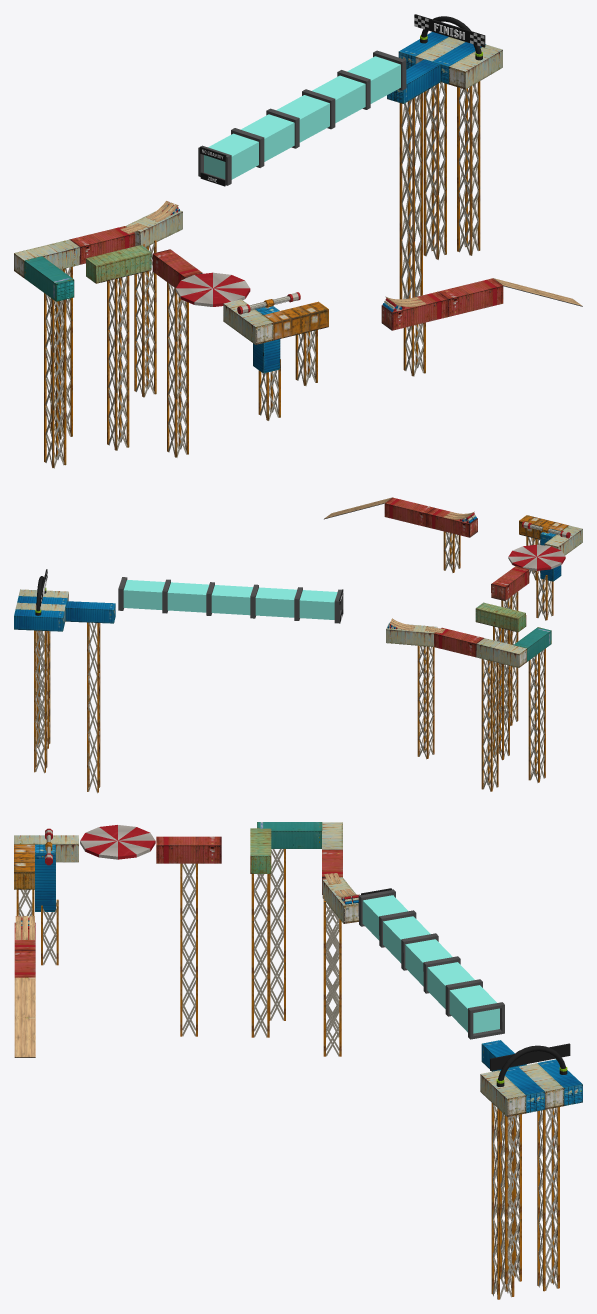
The model's file is 18_Parkour.fbx.
The picture shows the model from 3 angles, top to bottom: view 1: azimuth 30°, elevation 25°; view 2: azimuth 150°, elevation 25°; view 3: azimuth 270°, elevation 25°; orthographic projection. The views are drawn at different scales.
Visible parts, largest first — view 1: NoGravityZone, TurningPlatformFast, stcontainergreentwo, stcontainerred__8_, stcontainerorange, orangescaffold__7_, stcontainerred__5_, stcontainergreen, stcontainerwhite__4_, stcontainerwhite__1_, orangescaffold__5_, orangescaffold__8_ (+32 smaller); view 2: NoGravityZone, TurningPlatformFast, stcontainergreentwo, stcontainerblue__1_, stcontainerwhite__2_, stcontainerblue__3_, stcontainerred__8_, stcontainerred__7_, stcontainerred__5_, stcontainerred__6_, stcontainerwhite__3_, orangescaffold__13_ (+25 smaller); view 3: NoGravityZone, TurningPlatformFast, stcontainerred__6_, stcontainergreen, finishObject, stcontainerwhite__4_, orangescaffold__5_, orangescaffold__4_, stcontainerblue, orangescaffold__1_, orangescaffold, orangescaffold__6_ (+27 smaller).
Boxes of the visible parts, x1=… form: NoGravityZone: x1=204, y1=56, x2=400, y2=179; TurningPlatformFast: x1=175, y1=272, x2=250, y2=306; stcontainergreentwo: x1=86, y1=245, x2=151, y2=283; stcontainerred__8_: x1=437, y1=278, x2=503, y2=316; stcontainerorange: x1=263, y1=301, x2=328, y2=340; orangescaffold__7_: x1=399, y1=158, x2=422, y2=242; stcontainerred__5_: x1=381, y1=292, x2=447, y2=330; stcontainergreen: x1=24, y1=256, x2=74, y2=301; stcontainerwhite__4_: x1=449, y1=44, x2=502, y2=89; stcontainerwhite__1_: x1=223, y1=299, x2=273, y2=344; orangescaffold__5_: x1=423, y1=187, x2=446, y2=259; orangescaffold__8_: x1=399, y1=93, x2=422, y2=166; NoGravityZone: x1=123, y1=580, x2=337, y2=619; TurningPlatformFast: x1=508, y1=544, x2=565, y2=570; stcontainergreentwo: x1=475, y1=602, x2=526, y2=632; stcontainerblue__1_: x1=65, y1=601, x2=115, y2=623; stcontainerwhite__2_: x1=476, y1=638, x2=526, y2=667; stcontainerblue__3_: x1=14, y1=609, x2=64, y2=631; stcontainerred__8_: x1=384, y1=497, x2=434, y2=527; stcontainerred__7_: x1=434, y1=627, x2=484, y2=657; stcontainerred__5_: x1=427, y1=508, x2=477, y2=537; stcontainerred__6_: x1=491, y1=566, x2=529, y2=600; stcontainerwhite__3_: x1=386, y1=623, x2=437, y2=646; orangescaffold__13_: x1=481, y1=697, x2=498, y2=747; NoGravityZone: x1=362, y1=895, x2=499, y2=1033; TurningPlatformFast: x1=80, y1=825, x2=155, y2=859; stcontainerred__6_: x1=156, y1=836, x2=221, y2=863; stcontainergreen: x1=257, y1=822, x2=322, y2=848; finishObject: x1=490, y1=1043, x2=570, y2=1086; stcontainerwhite__4_: x1=480, y1=1070, x2=526, y2=1116; orangescaffold__5_: x1=537, y1=1218, x2=559, y2=1291; orangescaffold__4_: x1=537, y1=1152, x2=559, y2=1225; stcontainerblue: x1=35, y1=844, x2=55, y2=911; orangescaffold__1_: x1=499, y1=1151, x2=521, y2=1221; orangescaffold: x1=499, y1=1214, x2=521, y2=1284; orangescaffold__6_: x1=491, y1=1215, x2=514, y2=1299.
Bounding box in the file's own units: 17045 × 7833 × 14551.
